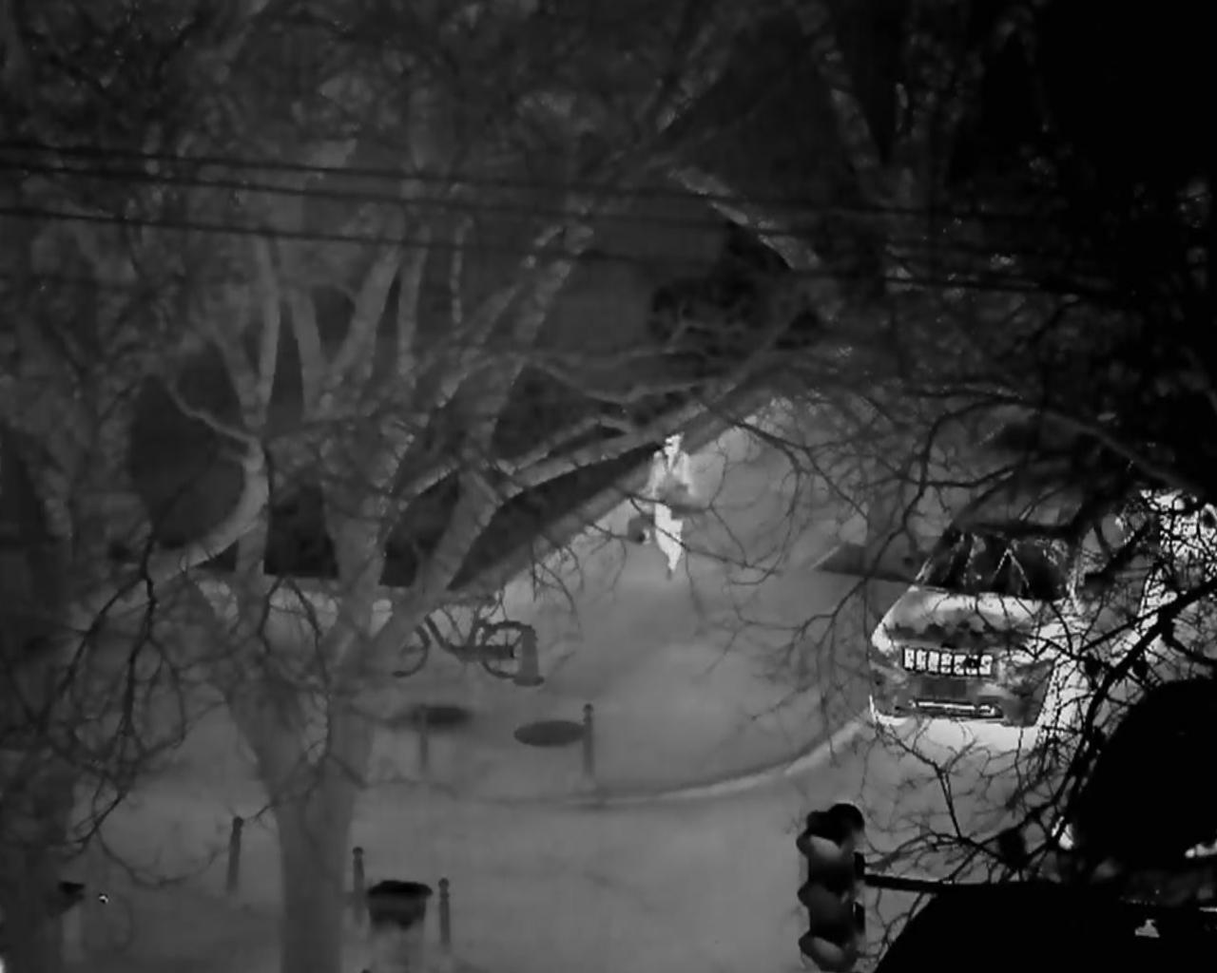person: (639, 433, 699, 580)
